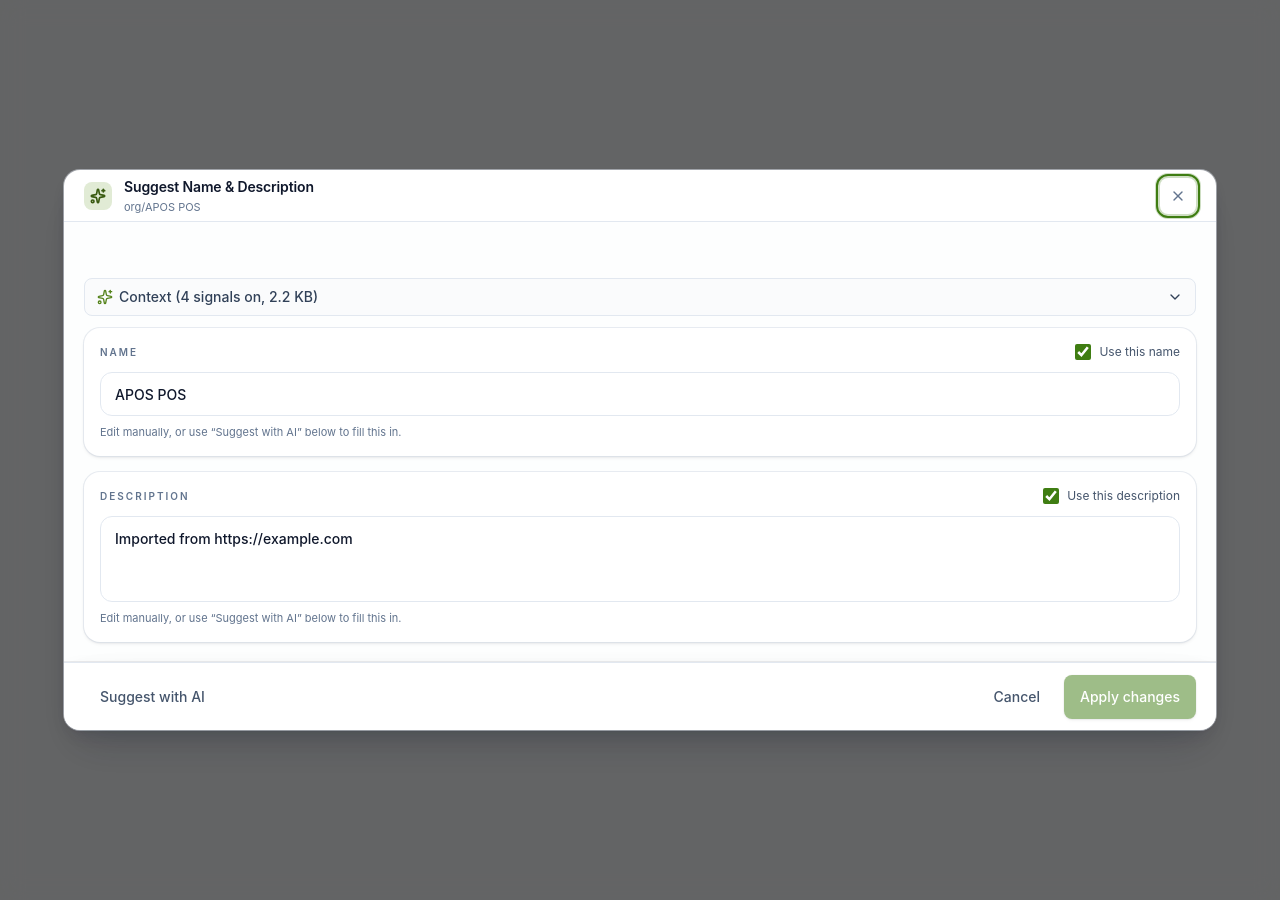
Scenario: SuggestNameDescriptionModal — graceful degradation › collapses to "Already great" when noChange is true for a field
Click the button "Suggest with AI" at x=152, y=696, box [84, 674, 221, 718]
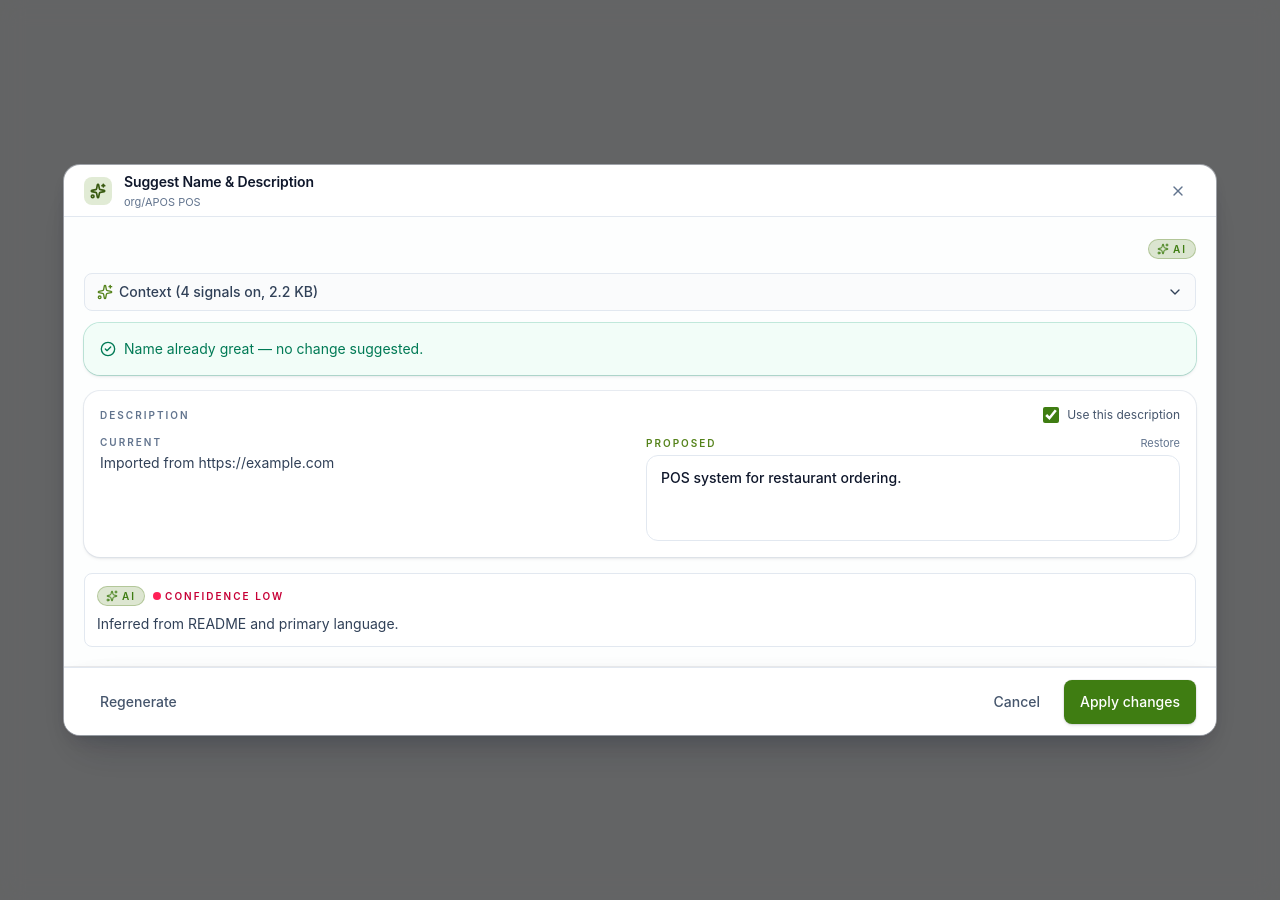
Now the text "Name already great — no change suggested." is shown, box [100, 340, 423, 357]
